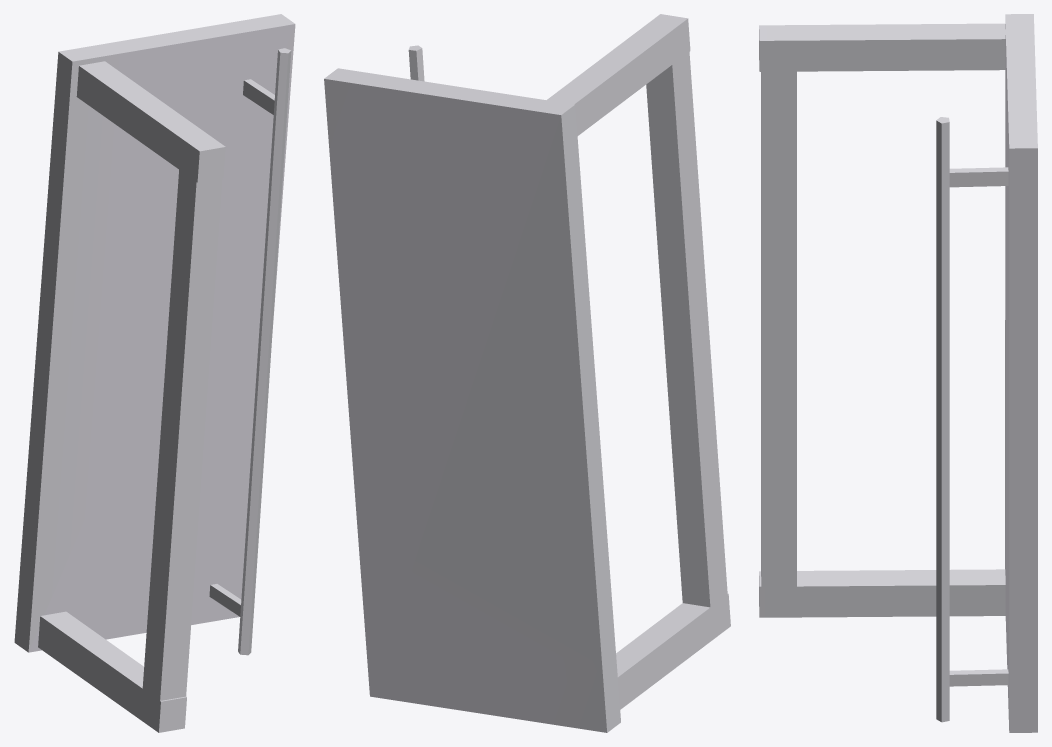
Rendered from frl_apartment_clothes_hanger_02.glb.
3 views of the same model, side by side, from view 1: azimuth 30°, elevation 25°; view 2: azimuth 150°, elevation 25°; view 3: azimuth 270°, elevation 25° (orthographic). The views are drawn at different scales.
Parts seen in each view (by area): view 1: frl_apartment_clothes_hanger_02; view 2: frl_apartment_clothes_hanger_02; view 3: frl_apartment_clothes_hanger_02.
Part boxes in pixels (x1,y1,x2,y2): frl_apartment_clothes_hanger_02: [14, 14, 295, 732]; frl_apartment_clothes_hanger_02: [324, 14, 730, 732]; frl_apartment_clothes_hanger_02: [759, 14, 1037, 732].
Bounding box in the file's own units: 0.414 × 0.8886 × 0.3552.
1 material, 1 textured.
